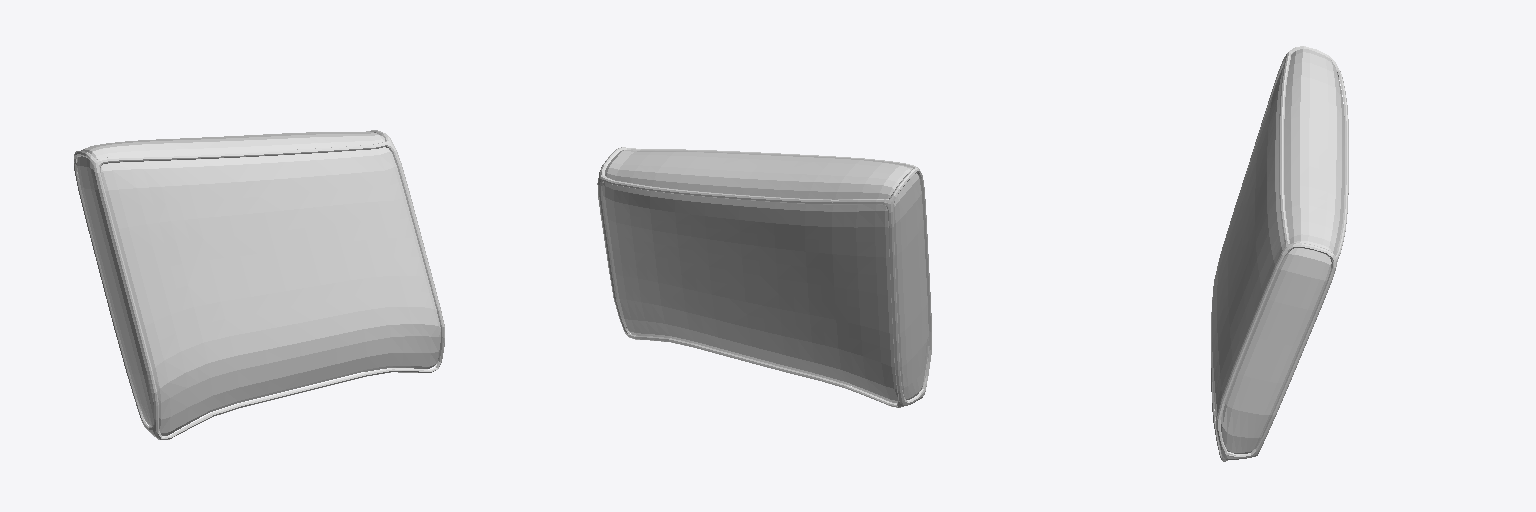
3 renders of one model, left to right at view 1: azimuth 30°, elevation 25°; view 2: azimuth 150°, elevation 25°; view 3: azimuth 270°, elevation 25°, orthographic.
Parts seen in each view (by area): view 1: hgfdf:L_Top_cushion med_poly Geo Couch; view 2: hgfdf:L_Top_cushion med_poly Geo Couch; view 3: hgfdf:L_Top_cushion med_poly Geo Couch.
Part boxes in pixels (x1,y1,x2,y2): hgfdf:L_Top_cushion med_poly Geo Couch: (74, 130, 444, 439); hgfdf:L_Top_cushion med_poly Geo Couch: (597, 147, 931, 407); hgfdf:L_Top_cushion med_poly Geo Couch: (1211, 46, 1348, 461).
Bounding box in the file's own units: 74.47 × 59.97 × 28.09.